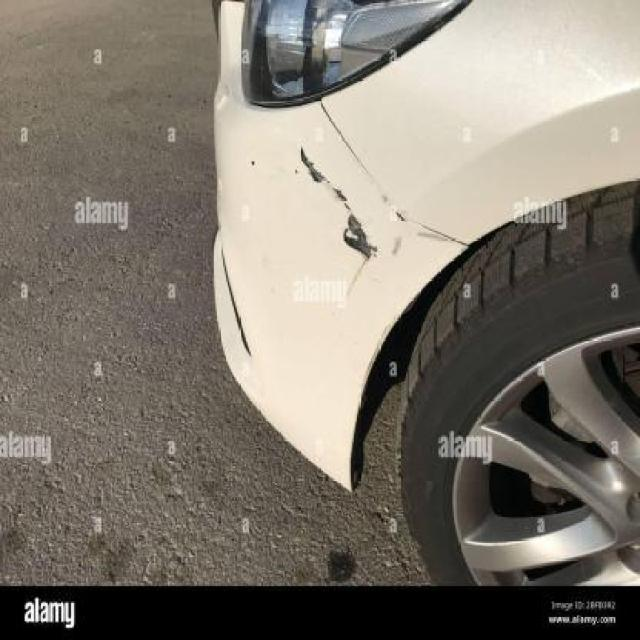scratch: (290, 140, 412, 302)
